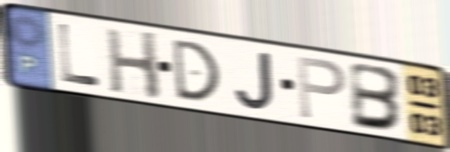B: (348, 60, 406, 134)
D: (169, 37, 223, 104)
H: (103, 26, 164, 103)
J: (232, 49, 277, 112)
L: (55, 21, 103, 89)
P: (294, 53, 348, 122)
